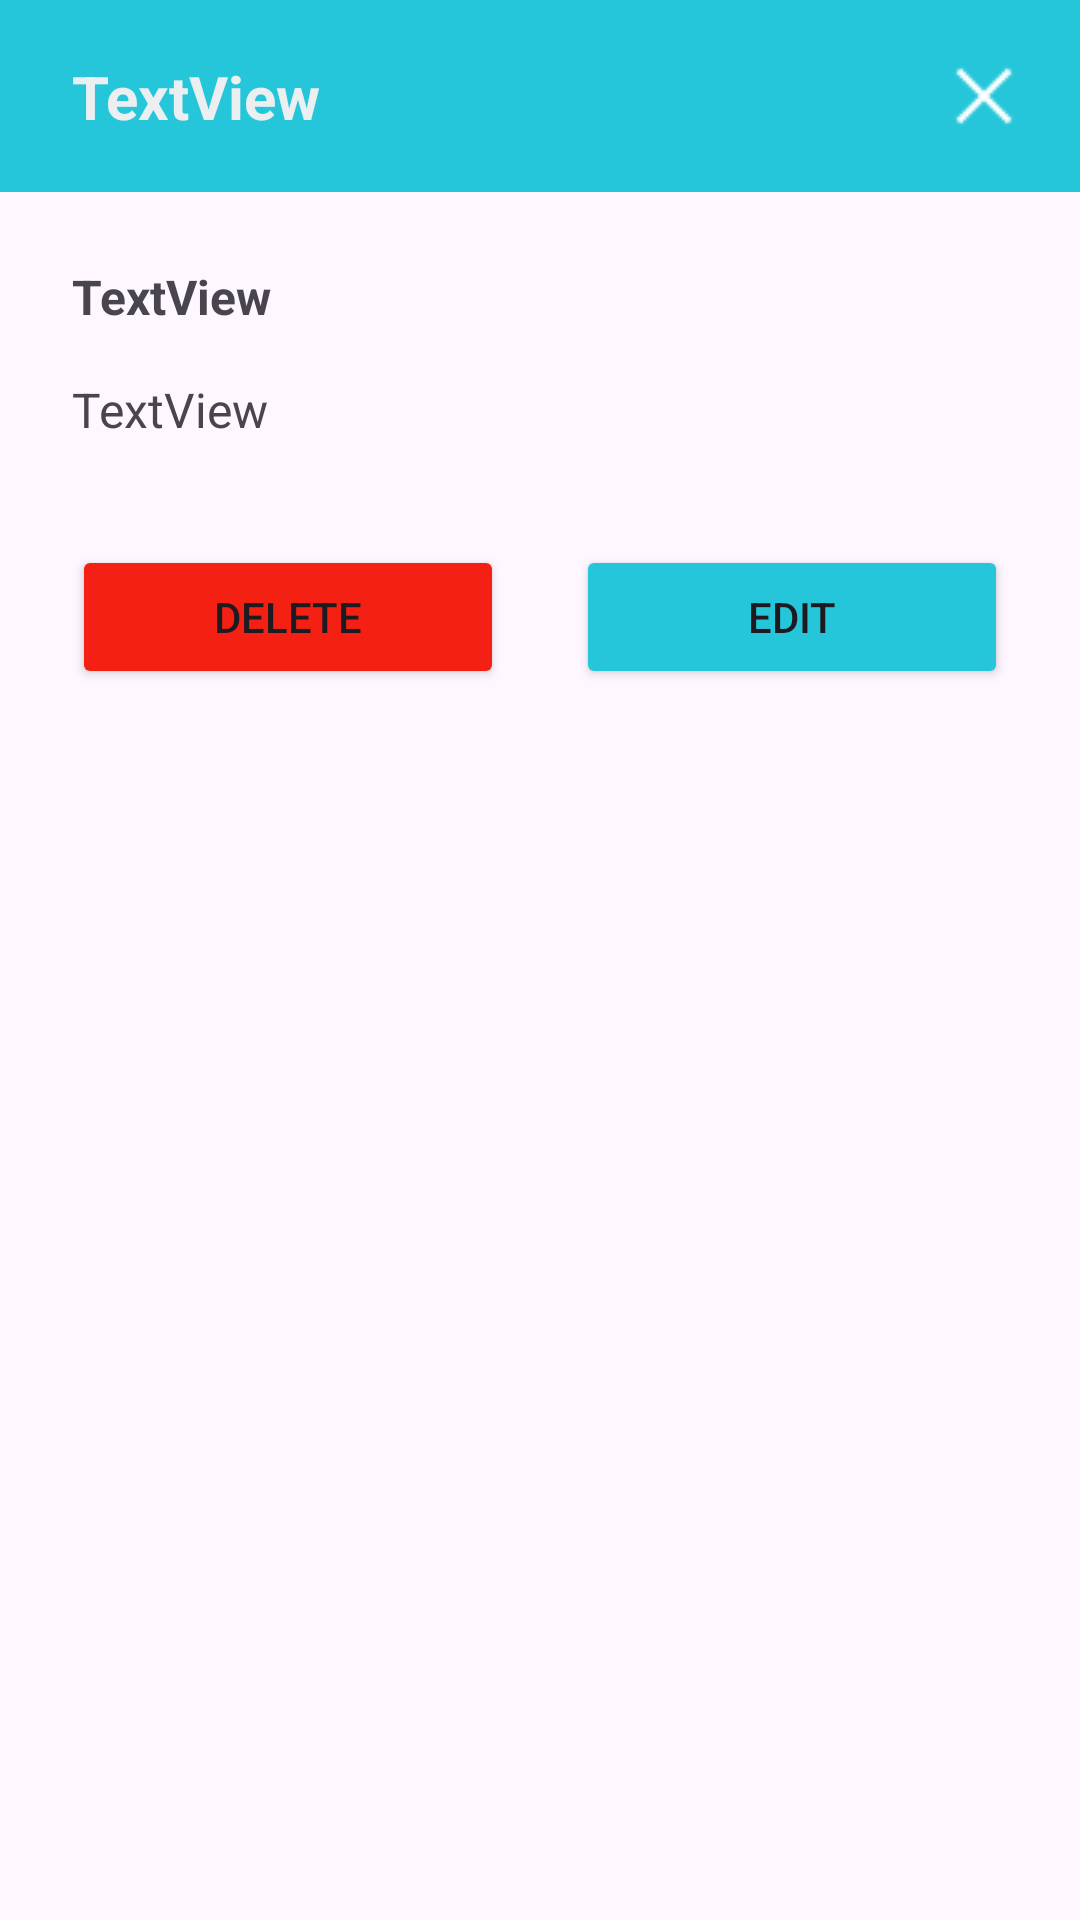

Named icons in this screenshot (1080 x 1920) and their centers, [x,y]:
Close: [984,96]
